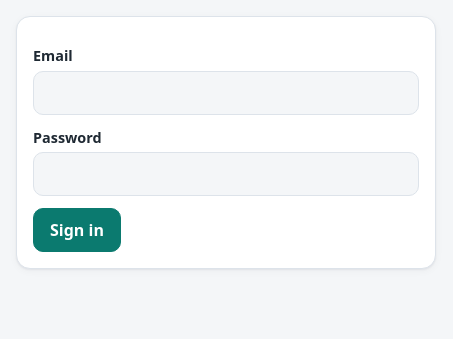
Test: LoginGate › shows why a wrong password failed and keeps the form
The width and height of the screenshot is (453, 339).
Type "me@example.com" into the field labelled "Email" at (226, 93), box [33, 71, 419, 115]
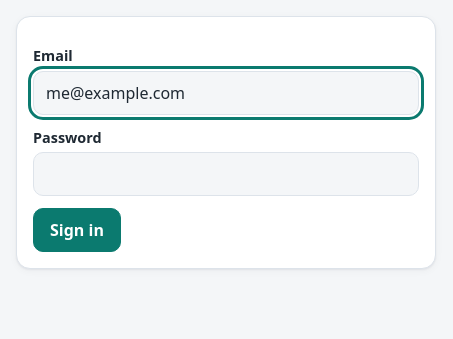
Type "wrong" into the password field labelled "Password" at (226, 174), box [33, 152, 419, 196]
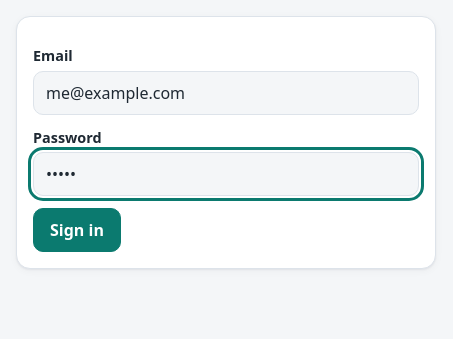
Click the button "Sign in" at (77, 230), box [33, 208, 121, 252]
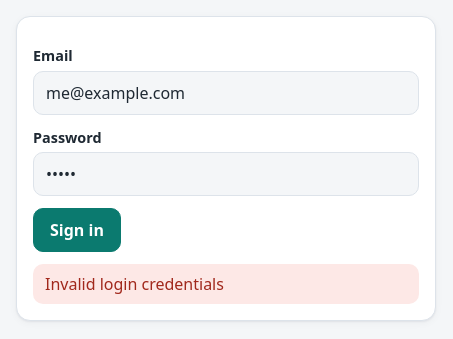
Expected: the text "Invalid login credentials" is shown, [33, 264, 419, 304]
